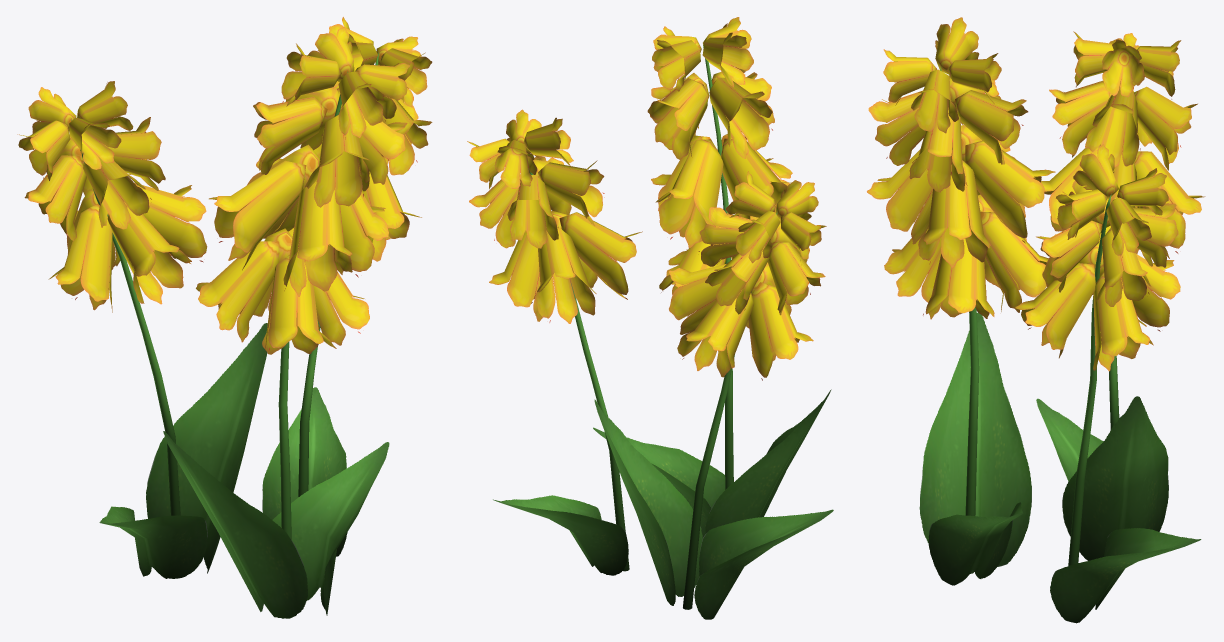
File: Flower_4_Group.glb
3 views of the same model, side by side, from view 1: azimuth 30°, elevation 25°; view 2: azimuth 150°, elevation 25°; view 3: azimuth 270°, elevation 25° (orthographic). The views are drawn at different scales.
Parts seen in each view (by area): view 1: Flower_4_Group; view 2: Flower_4_Group; view 3: Flower_4_Group.
Part boxes in pixels (bbox=[...]): Flower_4_Group: bbox=[17, 17, 432, 618]; Flower_4_Group: bbox=[467, 17, 833, 619]; Flower_4_Group: bbox=[867, 17, 1205, 623].
Bounding box in the file's own units: 1.78 × 2.49 × 1.37.
Materials: 2 (2 with a texture image).
